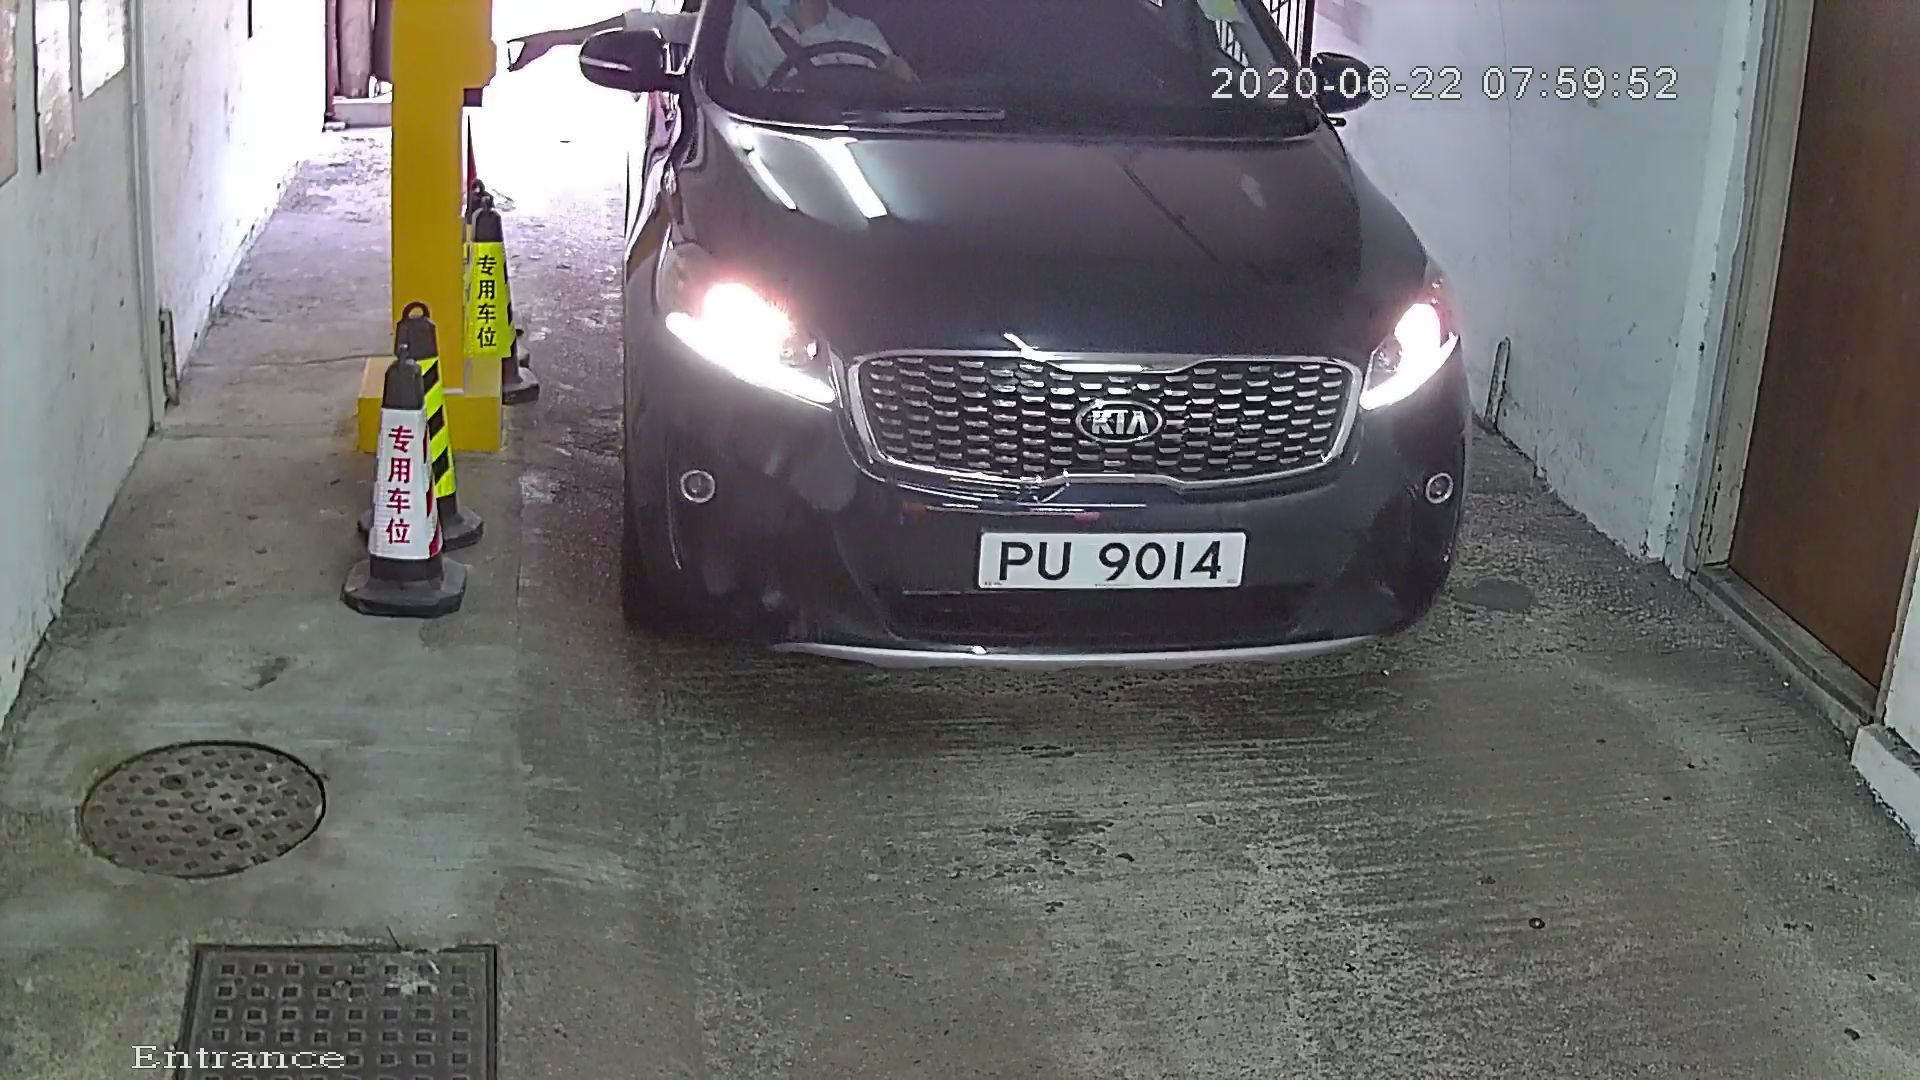privatecar: (529, 1, 1538, 715)
